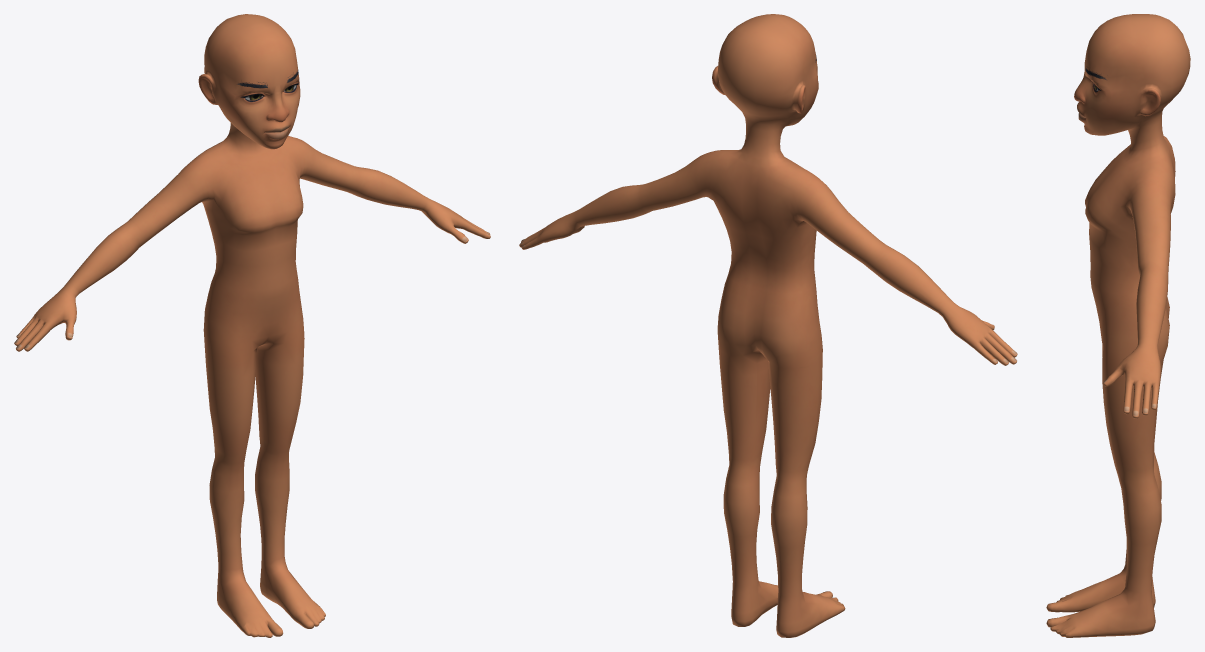
Rendered from frame_0021.glb.
3 views of the same model, side by side, from view 1: azimuth 30°, elevation 25°; view 2: azimuth 150°, elevation 25°; view 3: azimuth 270°, elevation 25° (orthographic). The views are drawn at different scales.
Visible parts, largest first — view 1: frame_0021_head_geo; view 2: frame_0021_head_geo; view 3: frame_0021_head_geo.
Part boxes in pixels (bbox=[...]): frame_0021_head_geo: bbox=[14, 14, 490, 637]; frame_0021_head_geo: bbox=[519, 14, 1017, 637]; frame_0021_head_geo: bbox=[1046, 14, 1190, 637].
Size of the model in its own units: 1.28 by 1.5 by 0.3253.
3 materials, 3 textured.
